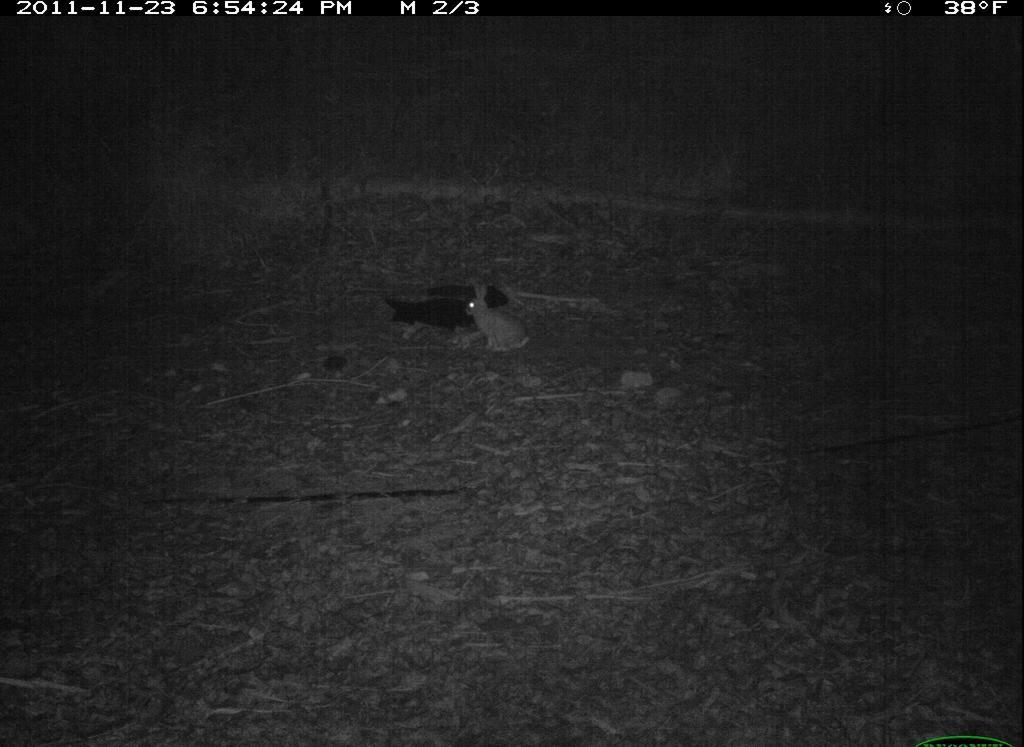rabbit: (460, 280, 541, 360)
